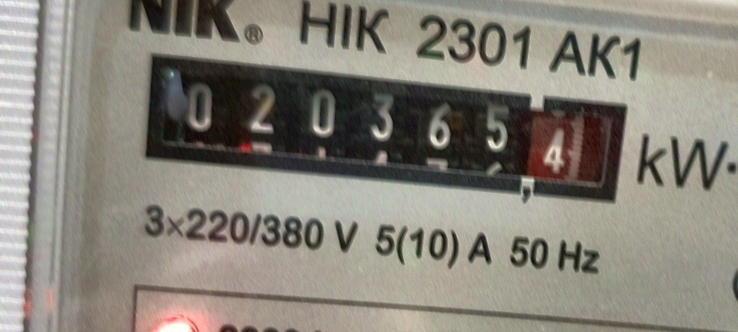0: (181, 78, 220, 136), (307, 87, 341, 140)
2: (245, 81, 280, 135)
3: (366, 92, 399, 144)
4: (540, 124, 568, 175)
5: (482, 104, 514, 153)
6: (424, 98, 455, 151)
screen: (126, 36, 645, 225)
